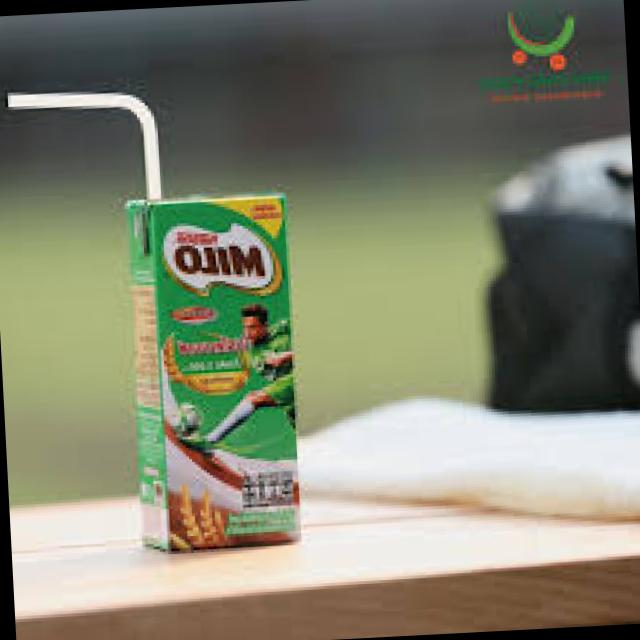sua milo: (105, 168, 320, 572)
